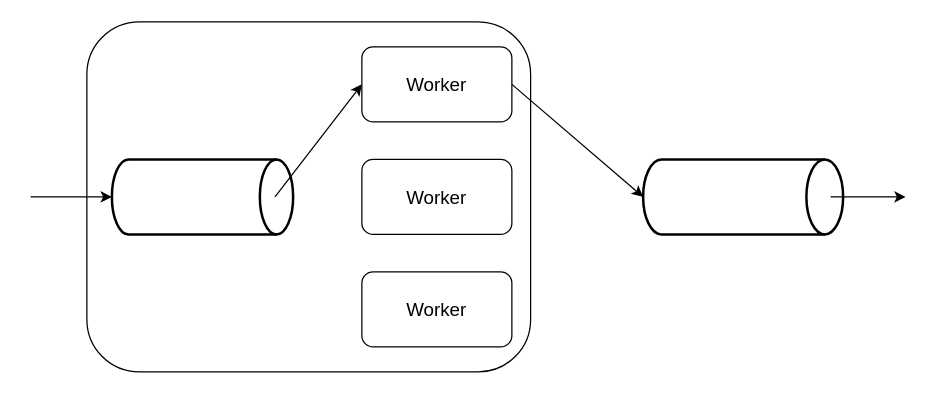
This 938x394 diagram has some shape labels left out. The shapes that lost their labels are listed below. From the top down, each one's box as (x1, y1, x2, y2) in pixels, then its label:
(110, 158, 294, 235): RequestQueue
(641, 158, 844, 235): ResponseQueue
